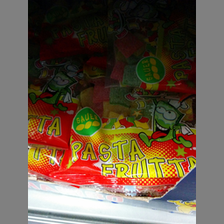candy: (66, 88, 196, 189)
